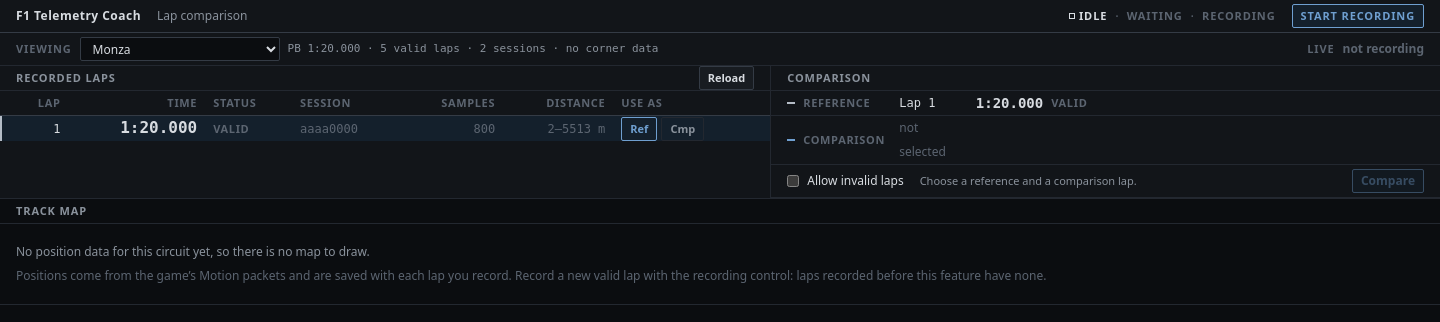
Test: LapComparisonPage circuits › the selector receives several circuits and shows only the viewed circuit laps
This screenshot has width=1440, height=322.
Expected: the text "1:20.000" in the row of "aaaa0000" is shown, x1=120 y1=118 x2=197 y2=137
Expected: the text "1:30.000" is not shown
Select "Suzuka" in the dropdown named "Circuit being viewed": (180, 49) x1=80 y1=37 x2=280 y2=61
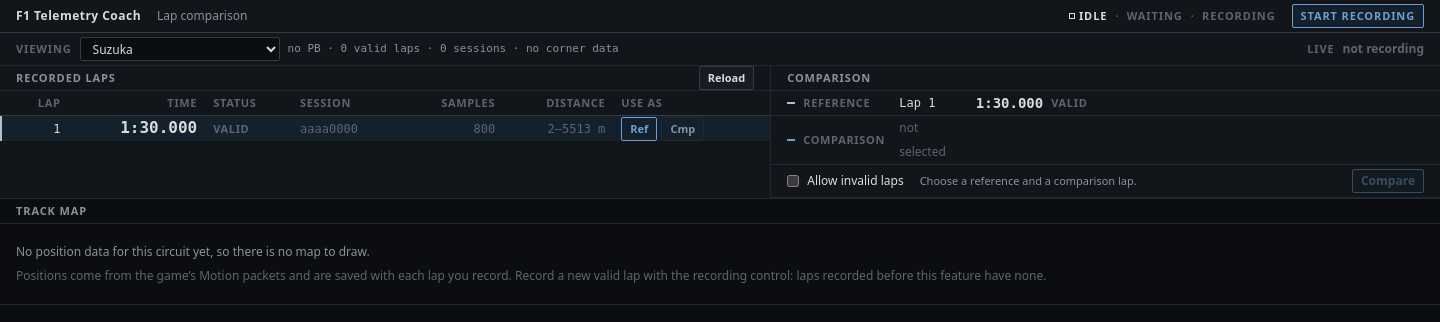
Expected: the text "1:30.000" in the row of "aaaa0000" is shown, x1=120 y1=118 x2=197 y2=137
Expected: the text "1:20.000" is gone
